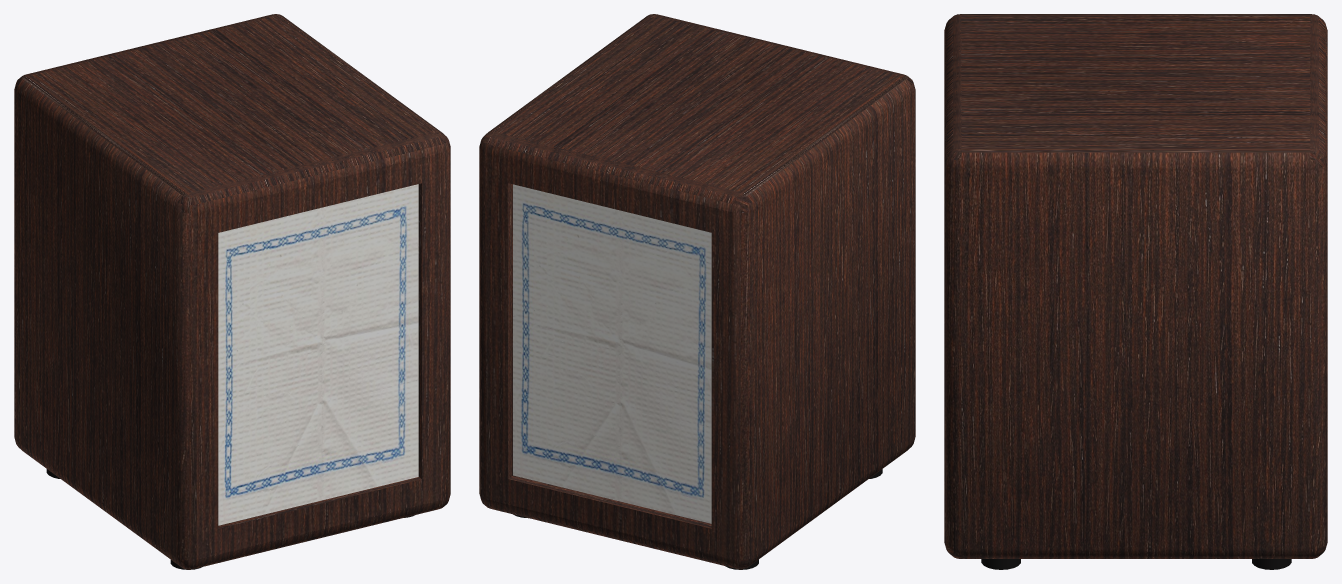
File: Napkin holder.FBX
3 views of the same model, side by side, from view 1: azimuth 30°, elevation 25°; view 2: azimuth 150°, elevation 25°; view 3: azimuth 270°, elevation 25° (orthographic). The views are drawn at different scales.
Parts seen in each view (by area): view 1: napkin holder; view 2: napkin holder; view 3: napkin holder.
Boxes of the visible parts, left/top/right/bottom form: napkin holder: left=14, top=14, right=450, bottom=569; napkin holder: left=479, top=14, right=915, bottom=569; napkin holder: left=944, top=14, right=1327, bottom=569.
Bounding box in the file's own units: 13.13 × 17.85 × 14.65.
1 material, 1 textured.
